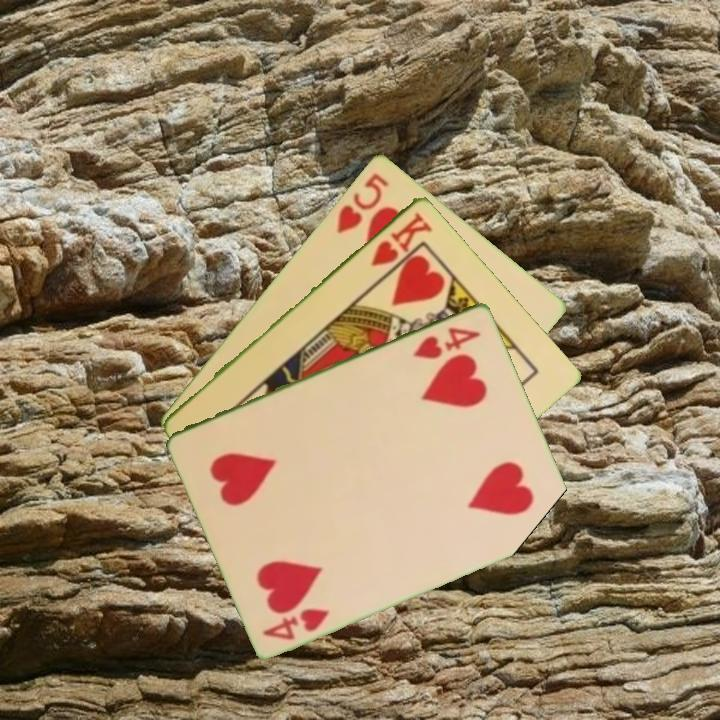4h: (409, 323, 484, 362), (259, 604, 333, 643)
5h: (333, 168, 392, 236)
Kh: (367, 207, 435, 269)
